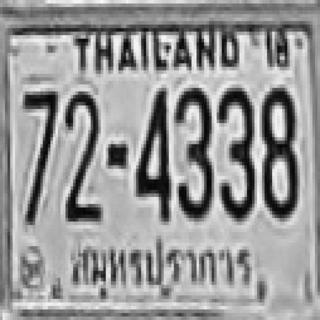N02: (63, 90, 98, 220)
N03: (174, 84, 212, 218), (217, 84, 254, 218)
N04: (134, 84, 169, 218)
N07: (21, 88, 57, 222), (21, 88, 57, 208), (21, 86, 57, 174)
N08: (260, 84, 295, 214)
P57: (68, 234, 258, 307)
